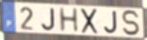2: (19, 6, 35, 32)
H: (57, 7, 80, 34)
J: (40, 7, 56, 32), (103, 10, 119, 34)
S: (121, 9, 142, 37)
X: (80, 8, 99, 36)
